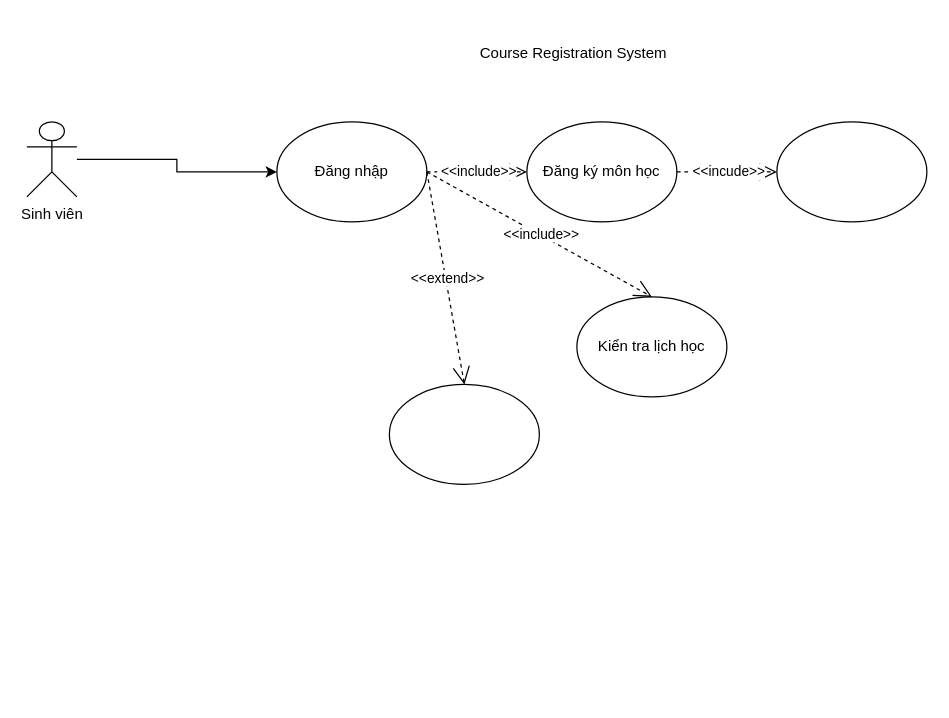
This 949x718 diagram has some shape labels left out. The centre of each missing label's shape, as x and y in pixels:
Xem môn học trung giờ: [463,433]
xác nhận đăng kỹ: [851,171]
